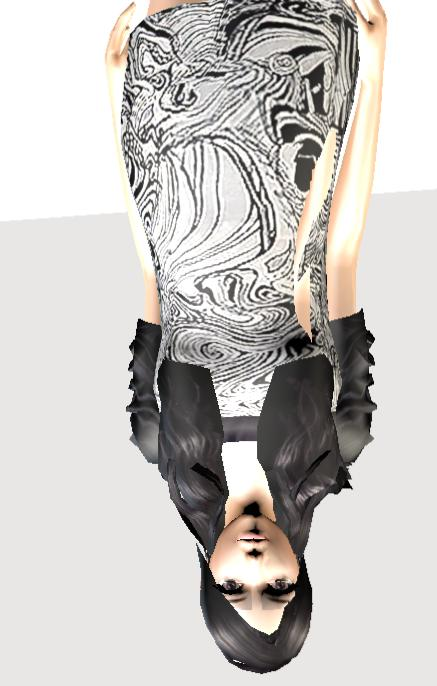clip: (308, 119, 343, 200)
